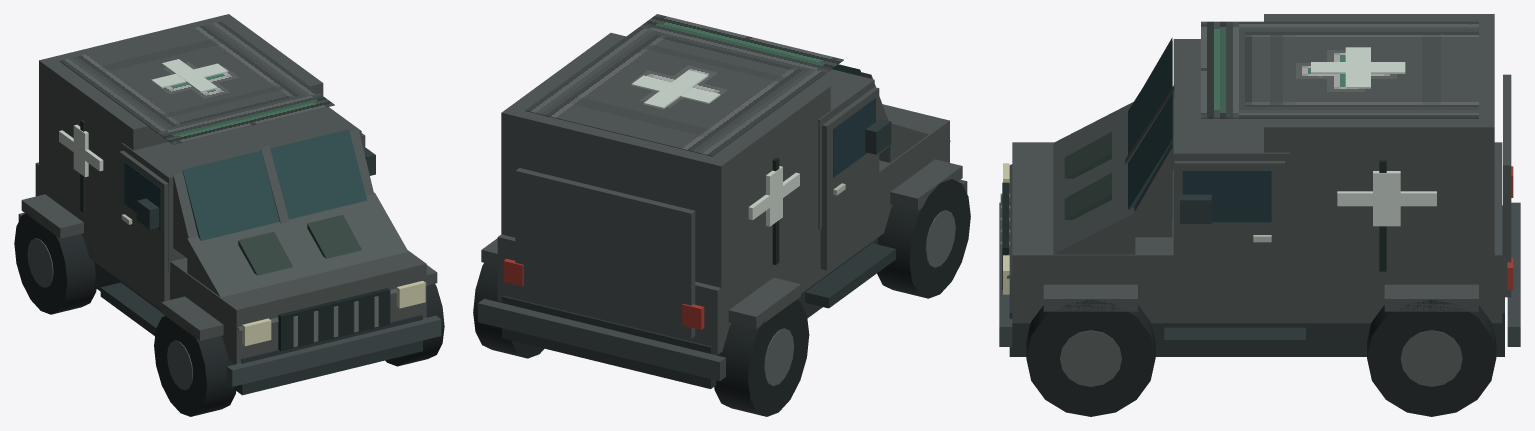
The model's file is CMU3DReduxVehicleHumveeMedical.glb.
3 renders of one model, left to right at view 1: azimuth 30°, elevation 25°; view 2: azimuth 150°, elevation 25°; view 3: azimuth 270°, elevation 25°, orthographic. The views are drawn at different scales.
Visible parts, largest first — view 1: source cabin paint, rear enclosed cabin, armored lower body, windshield glazing, rubber road tire (×3), sloped engine hood, cab armored bulkhead, cab door skin, bumper, front grille, sealed chassis, wheel fender (×2) (+12 smaller); view 2: rear enclosed cabin, rear access panel, source cabin paint, rubber road tire (×3), armored lower body, cab door skin, bumper, sealed chassis, wheel fender (×2), recessed metal wheel hub (×2), running board, cab armored bulkhead (+8 smaller); view 3: rear enclosed cabin, armored lower body, source cabin paint, rubber road tire (×2), cab door skin, sloped engine hood, cab armored bulkhead, recessed metal wheel hub (×2), sealed chassis, wheel fender (×2), windshield glazing, side window (+12 smaller).
Boxes of the visible parts, left/top/right/bottom form: source cabin paint: left=59, top=21, right=334, bottom=144; rear enclosed cabin: left=39, top=14, right=323, bottom=235; armored lower body: left=35, top=162, right=426, bottom=364; windshield glazing: left=182, top=129, right=367, bottom=240; rubber road tire (×3): left=14, top=211, right=444, bottom=416; sloped engine hood: left=187, top=192, right=427, bottom=330; cab armored bulkhead: left=121, top=107, right=361, bottom=272; cab door skin: left=119, top=150, right=169, bottom=306; bumper: left=227, top=315, right=441, bottom=386; front grille: left=278, top=288, right=390, bottom=351; sealed chassis: left=94, top=262, right=422, bottom=395; wheel fender (×2): left=21, top=194, right=223, bottom=340; rear enclosed cabin: left=501, top=33, right=830, bottom=301; rear access panel: left=515, top=168, right=695, bottom=338; source cabin paint: left=525, top=14, right=843, bottom=156; rubber road tire (×3): left=473, top=179, right=970, bottom=416; armored lower body: left=497, top=104, right=949, bottom=354; cab door skin: left=820, top=87, right=879, bottom=270; bumper: left=478, top=298, right=725, bottom=381; sealed chassis: left=502, top=238, right=877, bottom=388; wheel fender (×2): left=728, top=159, right=962, bottom=328; recessed metal wheel hub (×2): left=764, top=210, right=955, bottom=385; running board: left=805, top=243, right=895, bottom=308; cab armored bulkhead: left=814, top=69, right=874, bottom=229; rear enclosed cabin: left=1264, top=14, right=1494, bottom=269; armored lower body: left=1012, top=142, right=1502, bottom=323; source cabin paint: left=1201, top=21, right=1478, bottom=118; rubber road tire (×2): left=1026, top=300, right=1496, bottom=416; cab door skin: left=1174, top=161, right=1284, bottom=315; sloped engine hood: left=1007, top=101, right=1135, bottom=278; cab armored bulkhead: left=1173, top=39, right=1289, bottom=268; recessed metal wheel hub (×2): left=1060, top=330, right=1462, bottom=386; sealed chassis: left=1009, top=205, right=1504, bottom=356; wheel fender (×2): left=1043, top=284, right=1478, bottom=311; windshield glazing: left=1128, top=41, right=1172, bottom=218; side window: left=1182, top=170, right=1271, bottom=222.
Bounding box in the file's own units: 1.67 × 1.52 × 2.58.
Materials: 20 (1 with a texture image).
